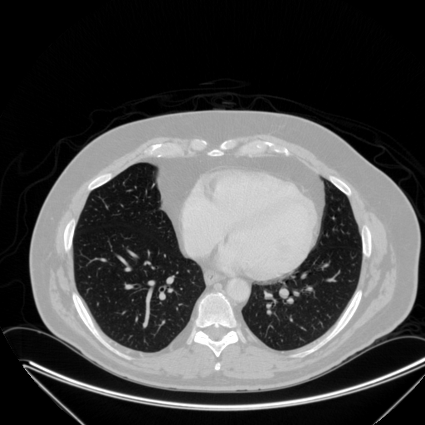nodule: (278, 287, 290, 299)
